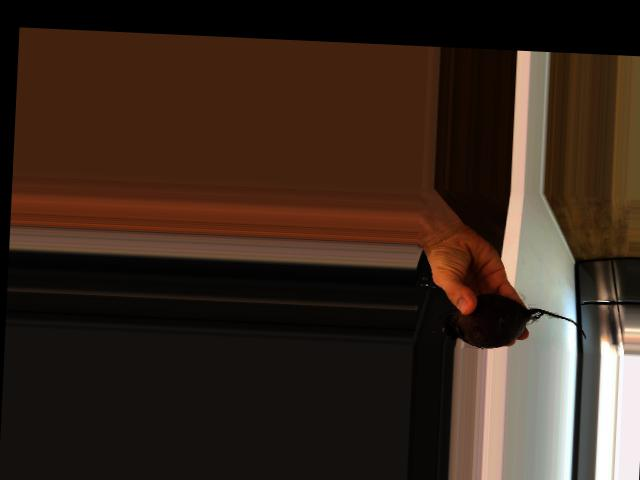beet: (436, 292, 587, 353)
